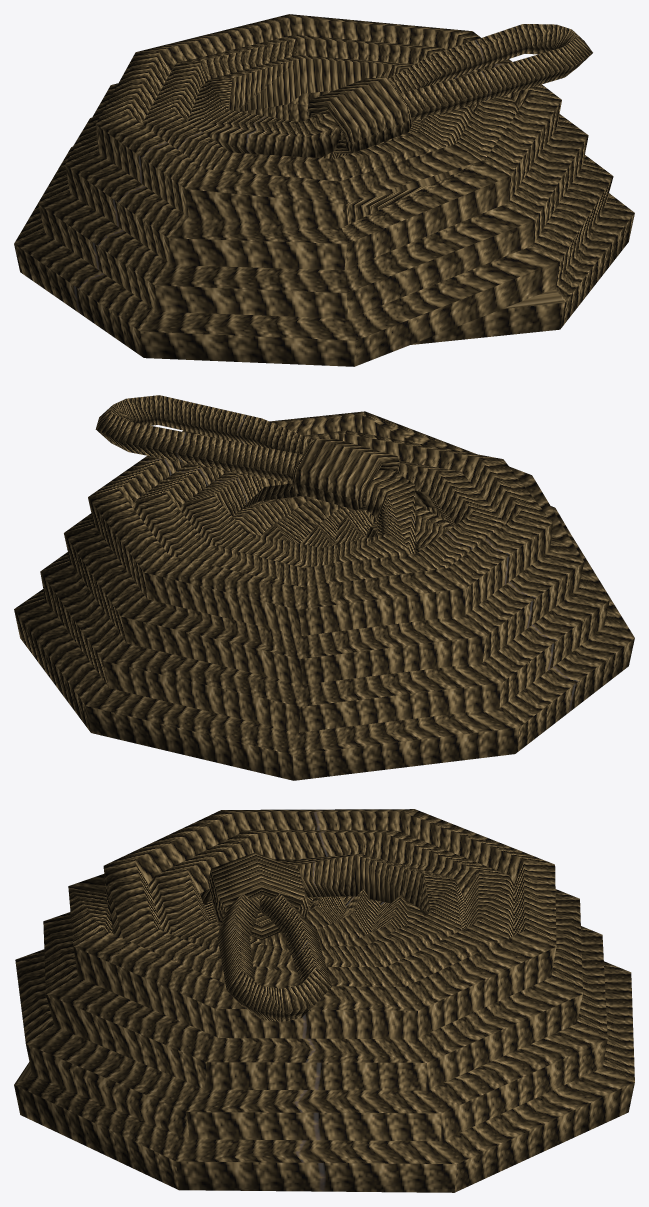
File: ShipCargoRope2.FBX
3 renders of one model, top to bottom at view 1: azimuth 30°, elevation 25°; view 2: azimuth 150°, elevation 25°; view 3: azimuth 270°, elevation 25°, orthographic. The views are drawn at different scales.
Visible parts, largest first — view 1: ShipCargoRope2_LOD0; view 2: ShipCargoRope2_LOD0; view 3: ShipCargoRope2_LOD0.
Part boxes in pixels (box(x1,y1,x2,y2)): ShipCargoRope2_LOD0: box(14, 14, 634, 366); ShipCargoRope2_LOD0: box(14, 395, 634, 780); ShipCargoRope2_LOD0: box(14, 809, 634, 1192).
Size of what is drawn, in the model's own units: 25.49 by 9.05 by 25.01.
